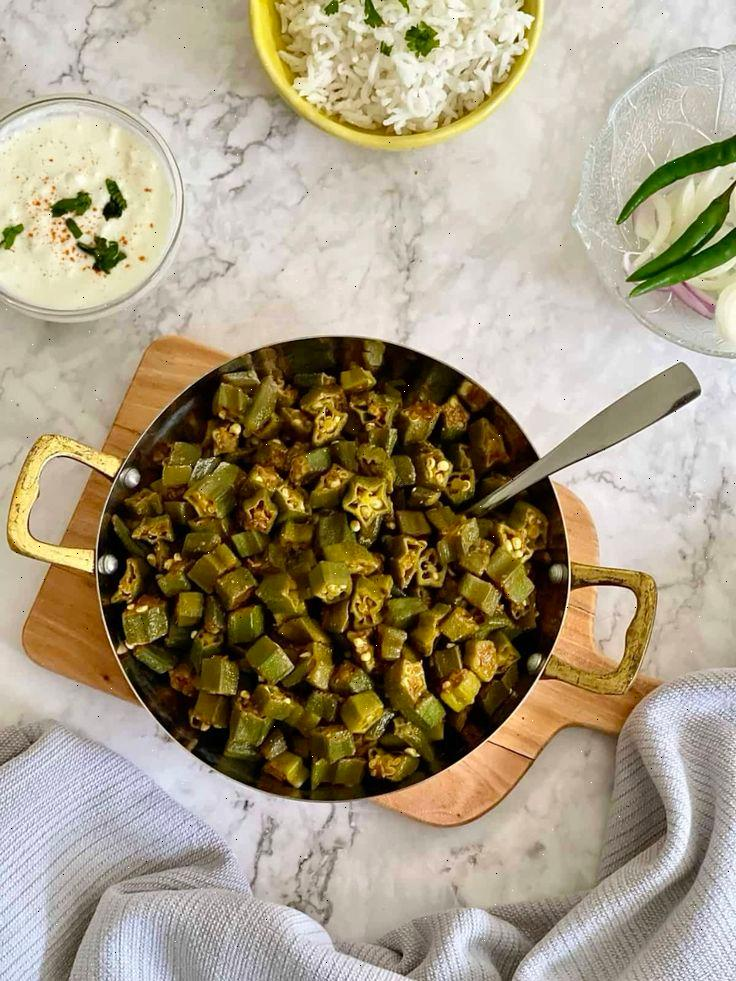bhindi: (157, 400, 475, 773)
